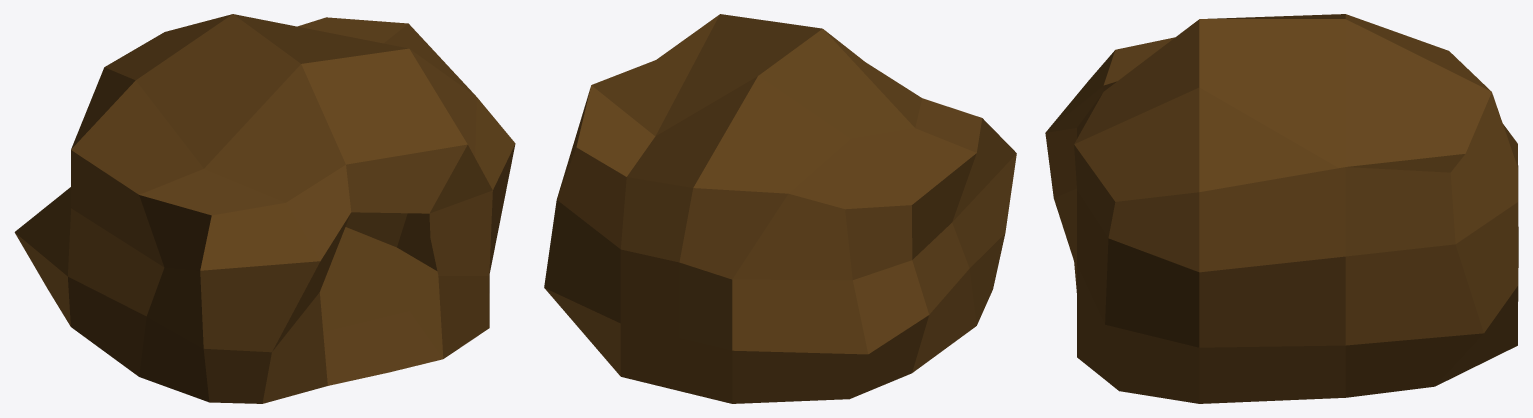
File: Room1_puzzleA.fbx
3 renders of one model, left to right at view 1: azimuth 30°, elevation 25°; view 2: azimuth 150°, elevation 25°; view 3: azimuth 270°, elevation 25°, orthographic. The views are drawn at different scales.
Parts seen in each view (by area): view 1: room1_puzzleA; view 2: room1_puzzleA; view 3: room1_puzzleA.
Boxes of the visible parts, box(x1,y1,x2,y2) form: room1_puzzleA: box(14, 14, 515, 403); room1_puzzleA: box(544, 14, 1016, 403); room1_puzzleA: box(1045, 14, 1518, 403).
Bounding box in the file's own units: 725 × 491 × 717.
2 materials, 2 textured.
